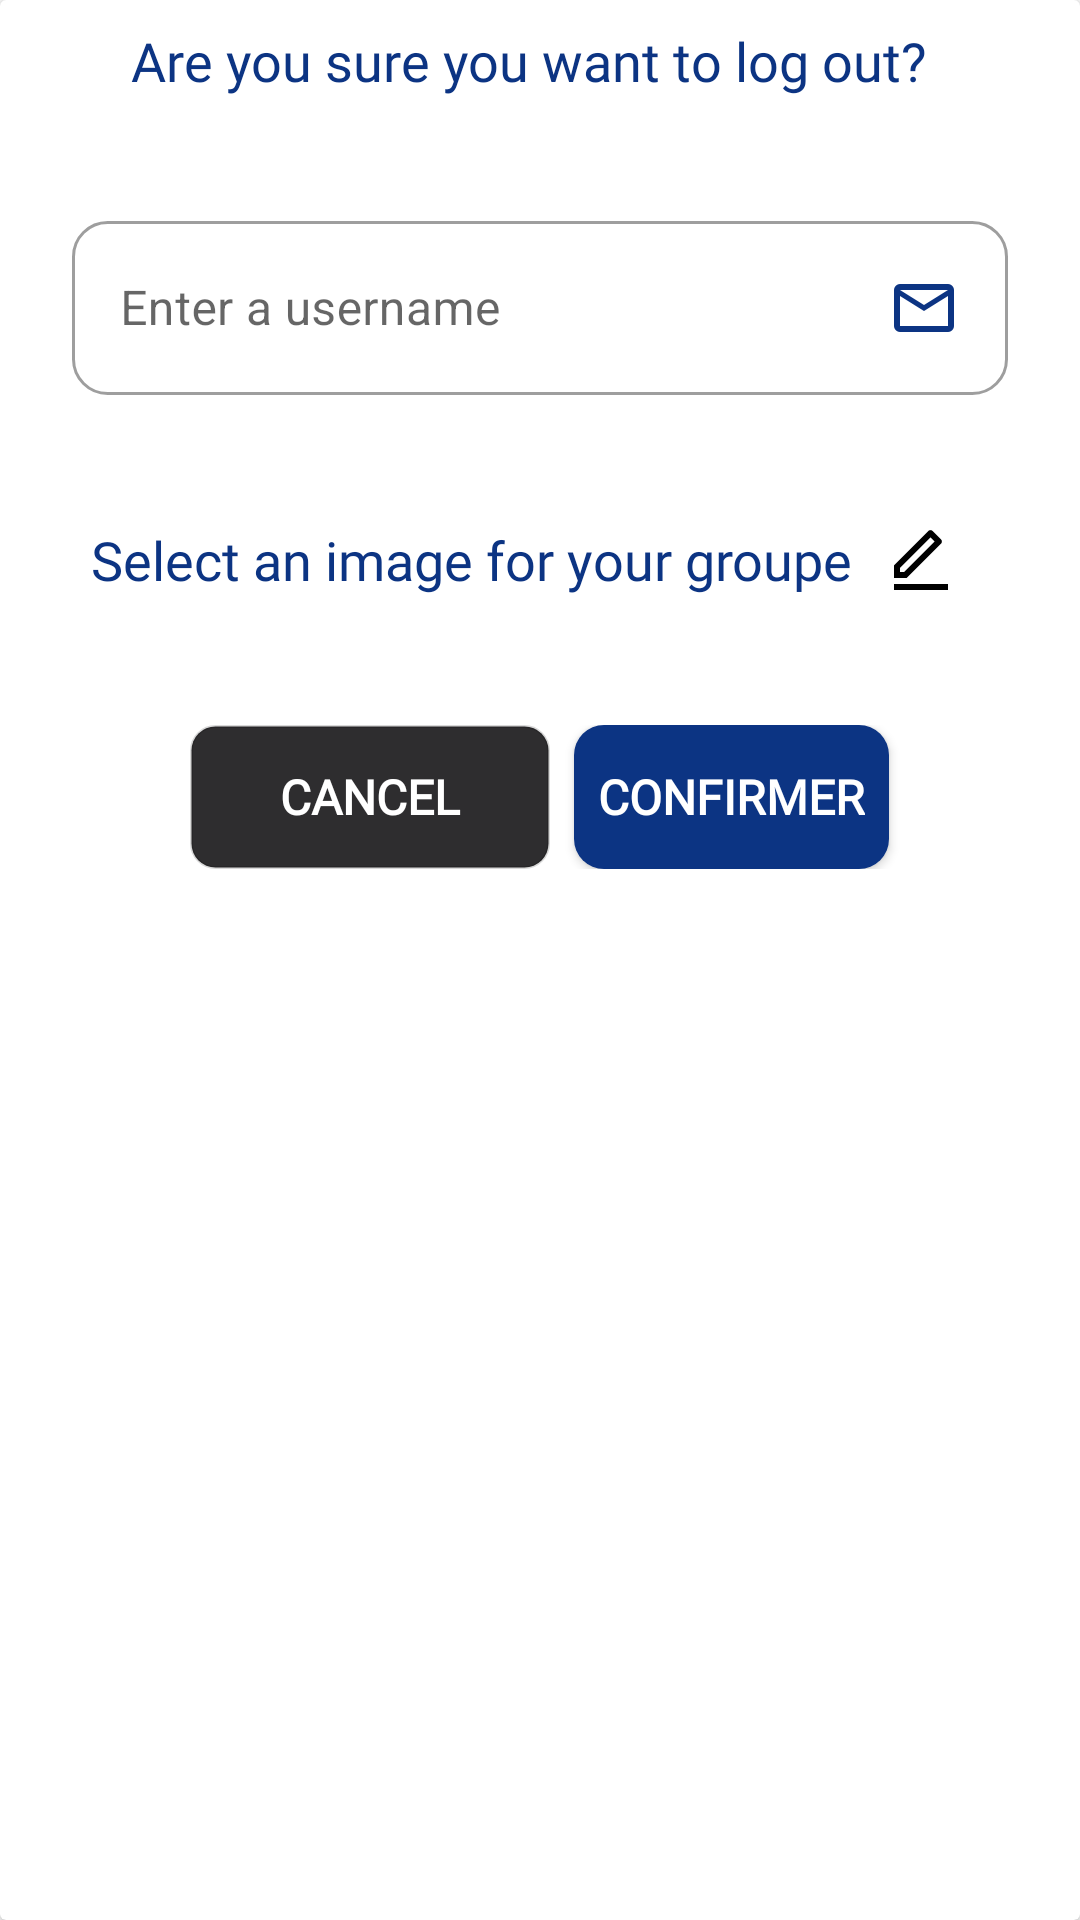

Where to tap for icons on this 1080px×1920px app screen, as (x,y):
line design edit: (921,560)
